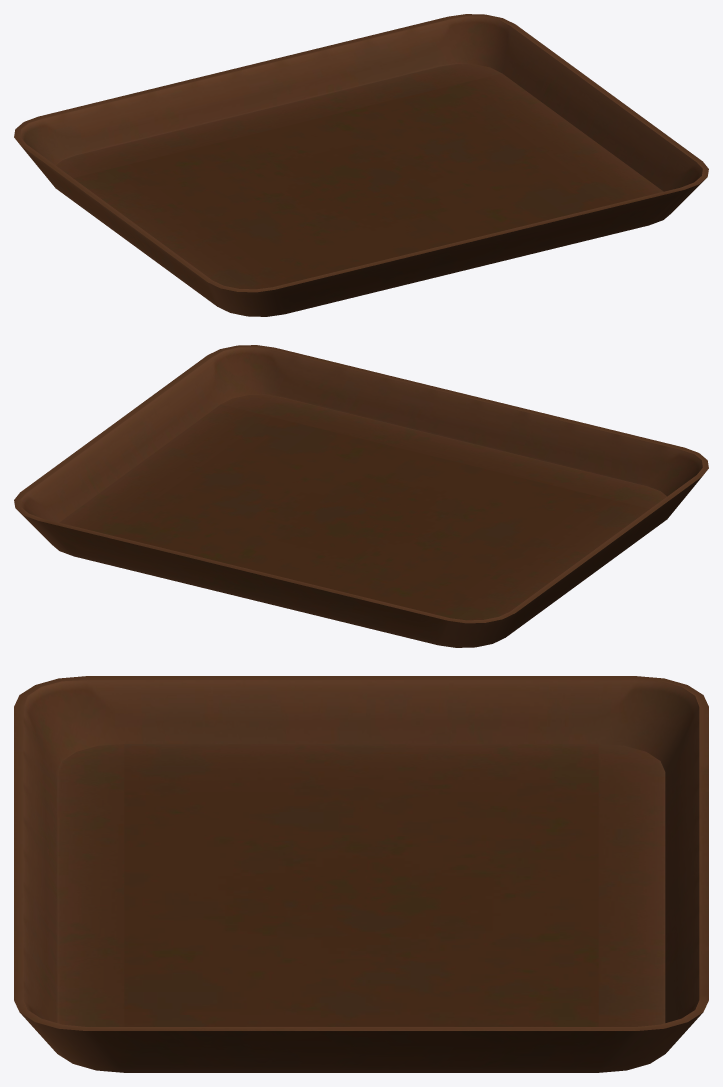
Rendered from tray.fbx.
3 views of the same model, one above another, from view 1: azimuth 30°, elevation 25°; view 2: azimuth 150°, elevation 25°; view 3: azimuth 270°, elevation 25° (orthographic). The views are drawn at different scales.
Visible parts, largest first — view 1: Tray.016; view 2: Tray.016; view 3: Tray.016.
Boxes of the visible parts, x1,y1,x2,y2 form: Tray.016: (14,14,708,316); Tray.016: (14,345,708,647); Tray.016: (14,676,708,1072).
Bounding box in the file's own units: 87.5 × 6.78 × 72.4.
